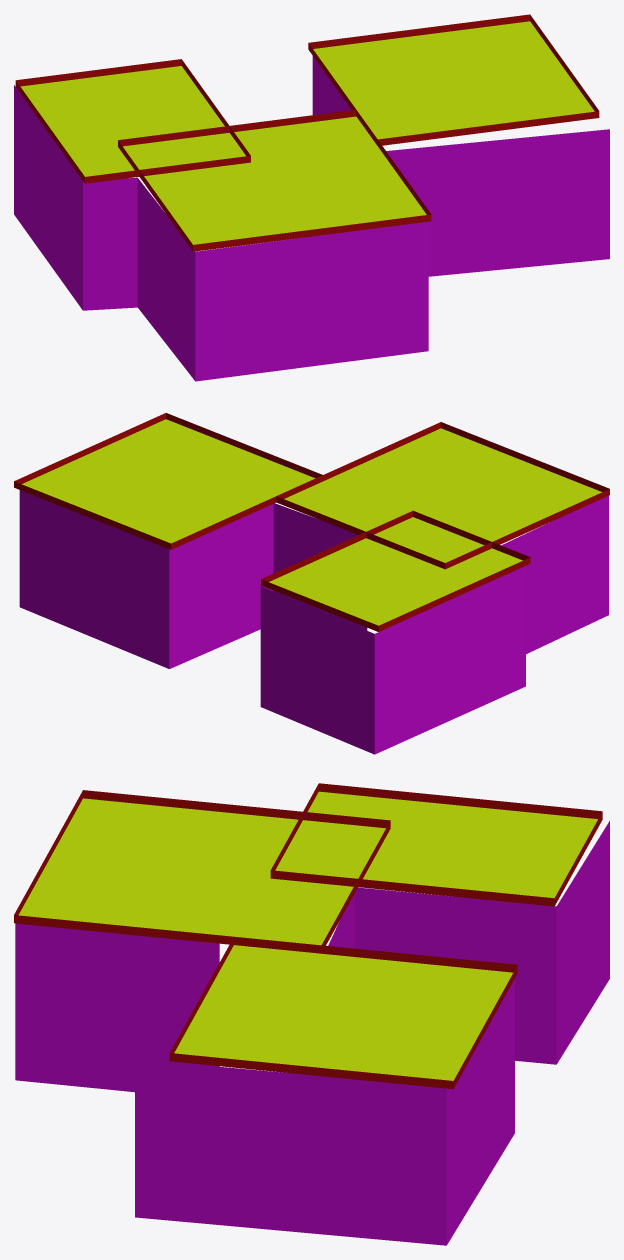
File: bgj_408.glb
The picture shows the model from 3 angles, top to bottom: view 1: azimuth 30°, elevation 25°; view 2: azimuth 150°, elevation 25°; view 3: azimuth 270°, elevation 25°; orthographic projection. The views are drawn at different scales.
Parts seen in each view (by area): view 1: bgj_408; view 2: bgj_408; view 3: bgj_408.
Boxes of the visible parts, x1,y1,x2,y2 form: bgj_408: [14, 14, 609, 381]; bgj_408: [14, 413, 609, 754]; bgj_408: [14, 783, 609, 1245].
Bounding box in the file's own units: 26.77 × 6.99 × 22.64.
